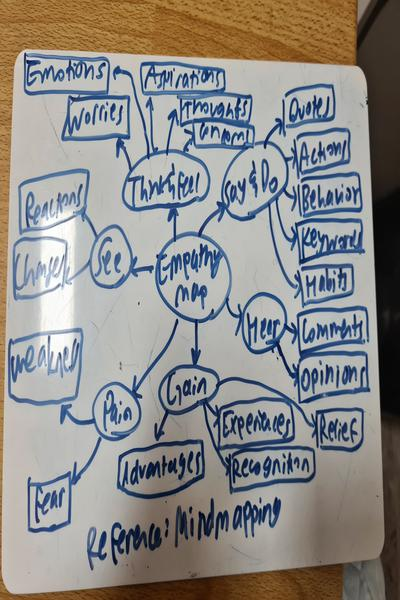arrow: (218, 376, 318, 428), (129, 318, 180, 398), (264, 204, 299, 296), (117, 61, 147, 154), (199, 405, 231, 471), (72, 437, 107, 485), (273, 195, 296, 248), (275, 344, 299, 382), (61, 405, 96, 428), (146, 95, 159, 155), (201, 206, 224, 235), (189, 321, 203, 368), (264, 118, 286, 147), (67, 261, 89, 287), (165, 106, 178, 150), (153, 409, 169, 444), (132, 254, 153, 279), (226, 301, 243, 329), (116, 141, 134, 167), (82, 212, 99, 239), (283, 186, 299, 214), (168, 208, 182, 237), (181, 127, 194, 153), (285, 323, 300, 343), (284, 147, 297, 169)
idea: (9, 333, 83, 403), (116, 442, 206, 496), (19, 170, 86, 231), (22, 52, 110, 96), (218, 401, 295, 448), (229, 448, 315, 490), (297, 351, 370, 398), (139, 59, 226, 97), (13, 237, 67, 298), (64, 93, 129, 139), (298, 309, 370, 350), (297, 174, 364, 217), (295, 216, 363, 255), (25, 478, 71, 531), (294, 128, 351, 170), (299, 265, 355, 305), (180, 93, 253, 123), (280, 85, 336, 123), (315, 409, 364, 452), (194, 120, 256, 148)
topic: (156, 233, 231, 322), (122, 154, 212, 208), (223, 144, 287, 217), (94, 381, 140, 440), (92, 224, 132, 291), (242, 295, 288, 352), (159, 366, 213, 412)
